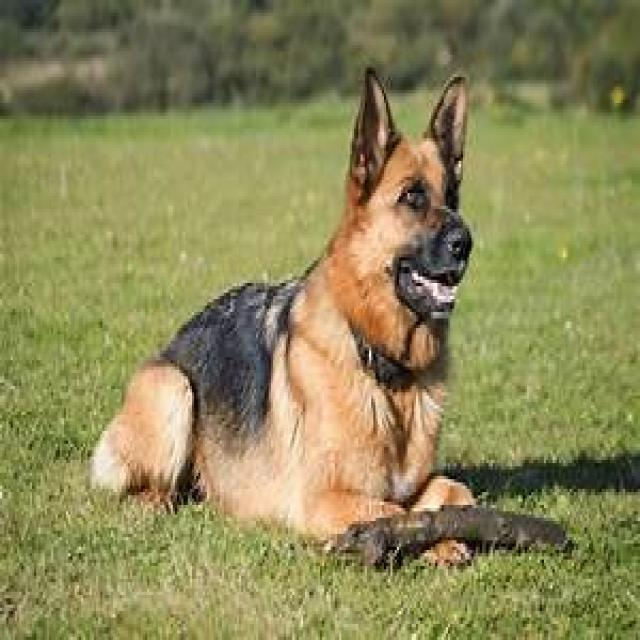dog: (91, 70, 474, 538)
